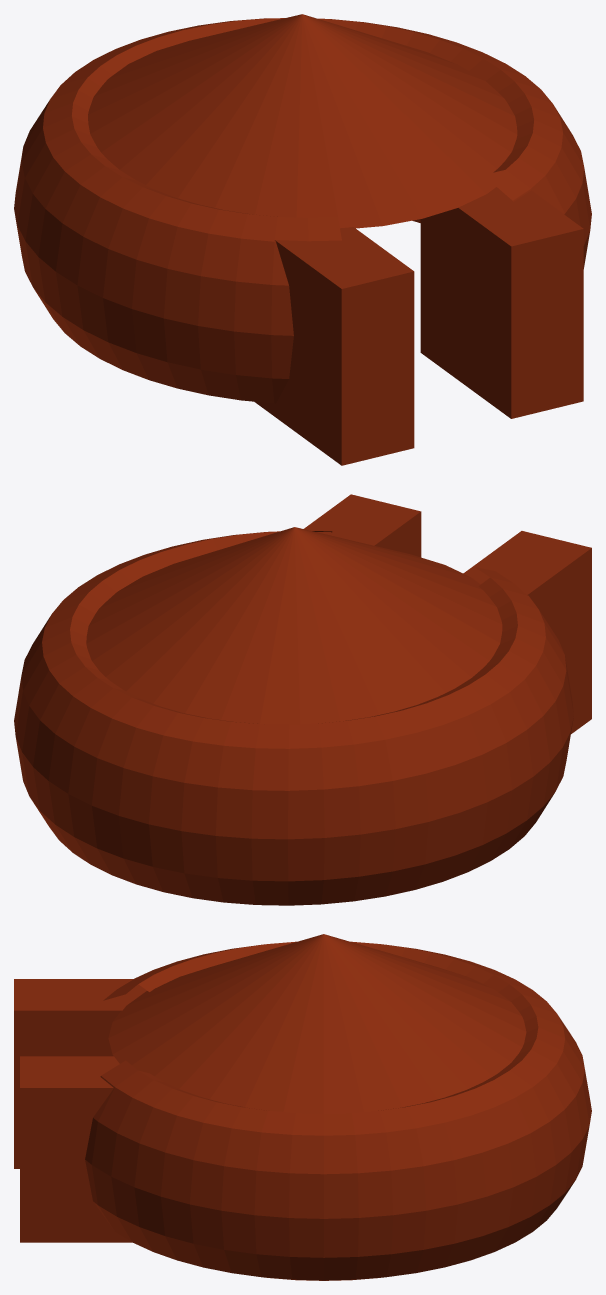
The model's file is blockCave.glb.
The picture shows the model from 3 angles, top to bottom: view 1: azimuth 30°, elevation 25°; view 2: azimuth 150°, elevation 25°; view 3: azimuth 270°, elevation 25°; orthographic projection. The views are drawn at different scales.
Parts seen in each view (by area): view 1: Torus, Cone, Cube.001_Cube.003, Cube_Cube.002; view 2: Torus, Cone, Cube_Cube.002, Cube.001_Cube.003; view 3: Torus, Cone, Cube.001_Cube.003, Cube_Cube.002.
Part boxes in pixels (x1,y1,x2,y2): Torus: (14, 18, 591, 403); Cone: (88, 14, 517, 228); Cube.001_Cube.003: (420, 187, 583, 418); Cube_Cube.002: (254, 227, 414, 465); Torus: (14, 531, 573, 905); Cone: (86, 527, 502, 724); Cube_Cube.002: (463, 531, 591, 733); Cube.001_Cube.003: (304, 494, 421, 557); Torus: (85, 941, 591, 1280); Cone: (108, 934, 526, 1113); Cube.001_Cube.003: (20, 1056, 131, 1242); Cube_Cube.002: (14, 979, 146, 1168).
Size of the model in its own units: 13.64 by 7.71 by 15.43.
